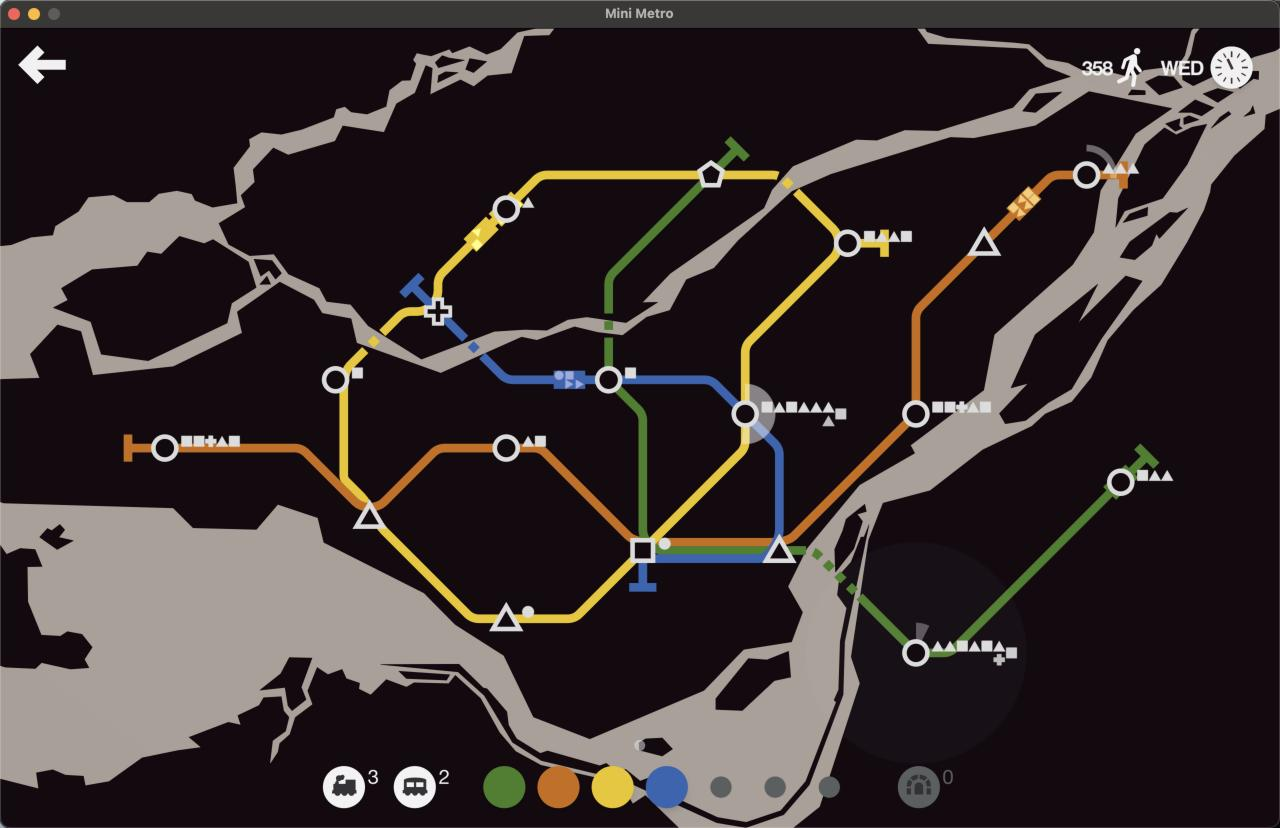CIRCLE: (491, 193, 523, 224), (900, 637, 931, 668), (1105, 467, 1136, 497), (900, 399, 931, 428), (594, 365, 624, 394), (731, 399, 760, 429), (833, 228, 862, 257), (492, 433, 521, 462), (151, 433, 179, 463), (321, 366, 350, 394), (1072, 160, 1100, 189)
CROSS: (425, 298, 453, 325)
PENTAGON: (696, 160, 725, 188)
SQUARE: (629, 537, 656, 563)
TRIANGLE: (966, 225, 1003, 258), (488, 601, 523, 633), (762, 534, 797, 565), (353, 500, 387, 531)
